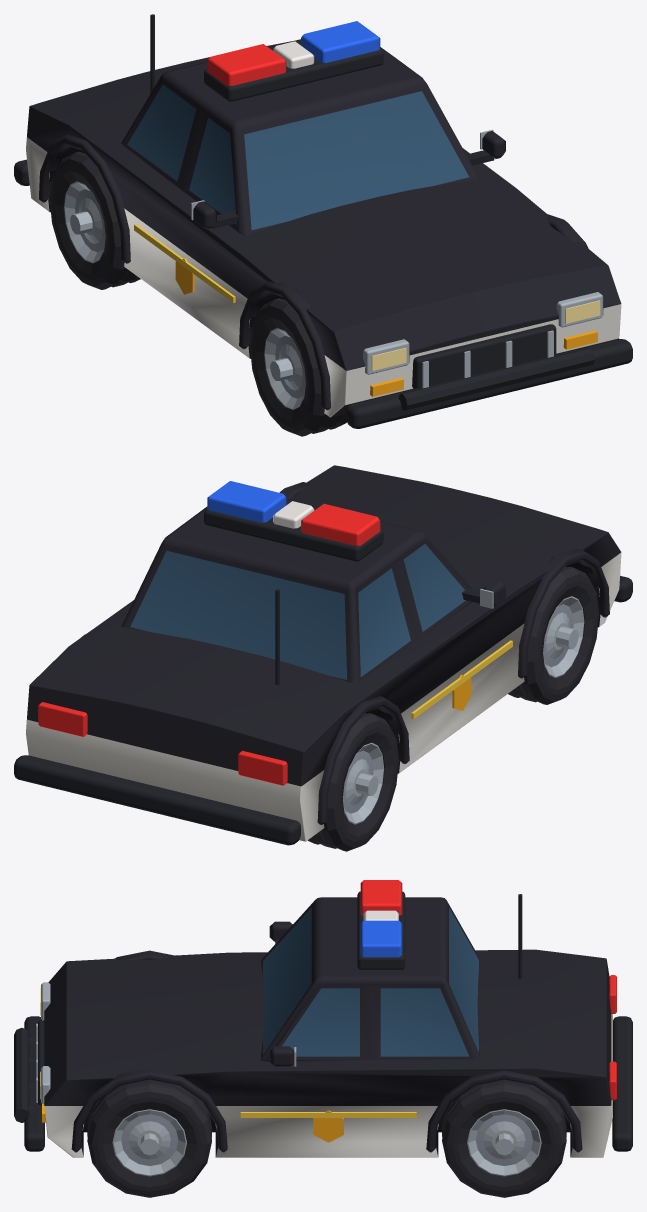
File: vuena-police-classic.glb
3 views of the same model, one above another, from view 1: azimuth 30°, elevation 25°; view 2: azimuth 150°, elevation 25°; view 3: azimuth 270°, elevation 25° (orthographic). The views are drawn at different scales.
Visible parts, largest first — view 1: police_body, wheel_FR, wheel_RR; view 2: police_body, wheel_RR, wheel_FR; view 3: police_body, wheel_RL, wheel_FL.
Part boxes in pixels (box(x1,y1,x2,y2)): police_body: box(14, 14, 632, 428); wheel_FR: box(249, 298, 346, 436); wheel_RR: box(49, 151, 140, 289); police_body: box(14, 465, 632, 845); wheel_RR: box(308, 713, 398, 851); wheel_FR: box(508, 566, 599, 704); police_body: box(14, 880, 632, 1157); wheel_RL: box(442, 1080, 566, 1197); wheel_FL: box(87, 1080, 211, 1197).
Bounding box in the file's own units: 1.95 × 1.57 × 3.88.
Materials: 1 (1 with a texture image).
